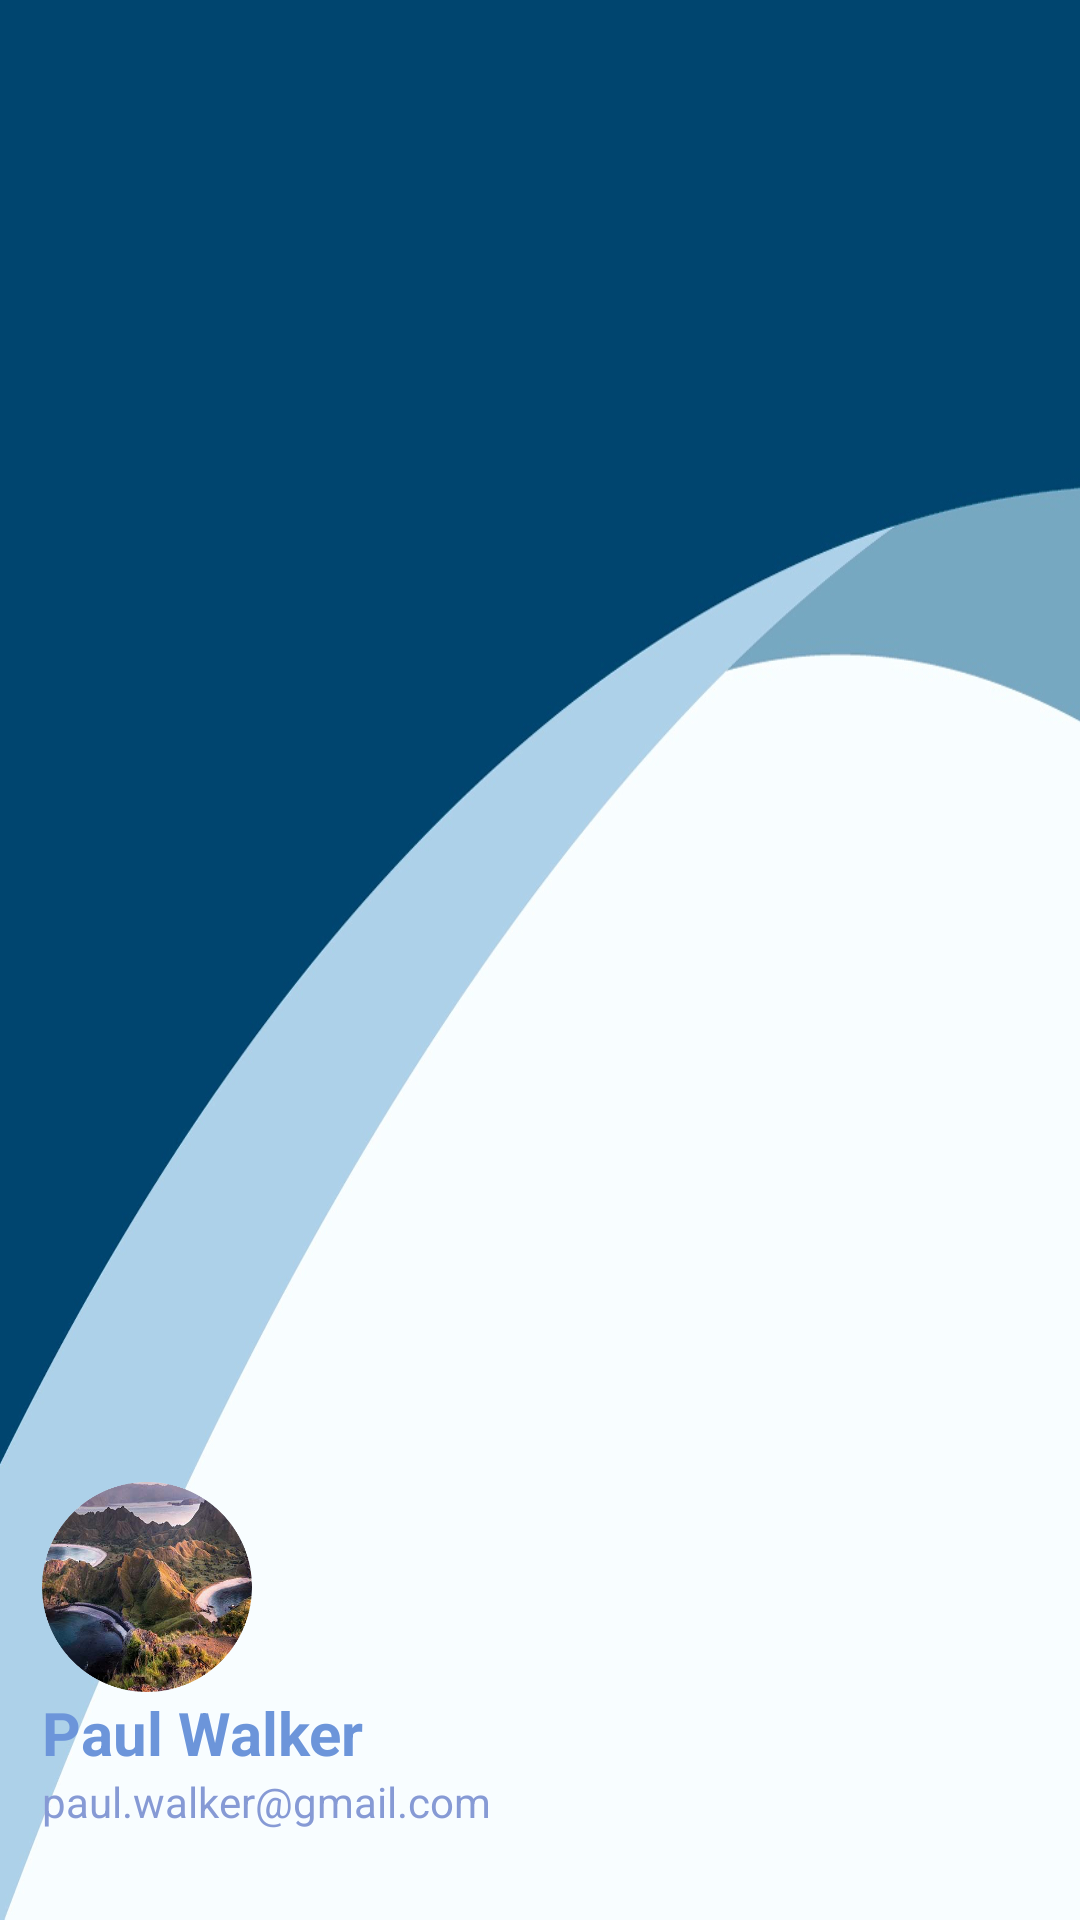

Point at icon controls on the screen. Image size 1080x1920, points as point (x, y).
account pict info: point (147, 1587)
